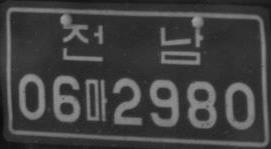0: (223, 81, 256, 130), (17, 72, 46, 120)
2: (112, 76, 143, 125)
6: (52, 74, 81, 122)
8: (186, 79, 218, 129)
9: (148, 78, 180, 127)
마: (85, 78, 108, 121)
전남_D: (61, 23, 204, 65)
